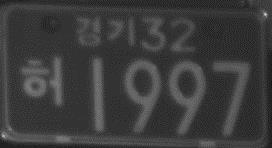1: (88, 53, 113, 133)
2: (167, 17, 197, 55)
3: (139, 14, 167, 51)
7: (211, 57, 254, 139)
9: (164, 60, 208, 140), (123, 55, 164, 136)
경기_O: (75, 14, 139, 48)
허: (19, 57, 65, 107)
